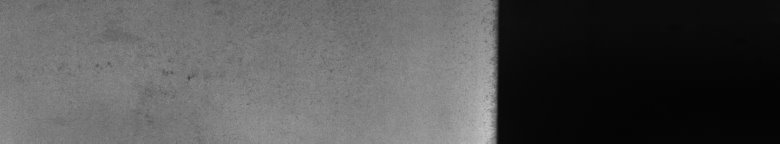ib: (95, 11, 222, 117)
